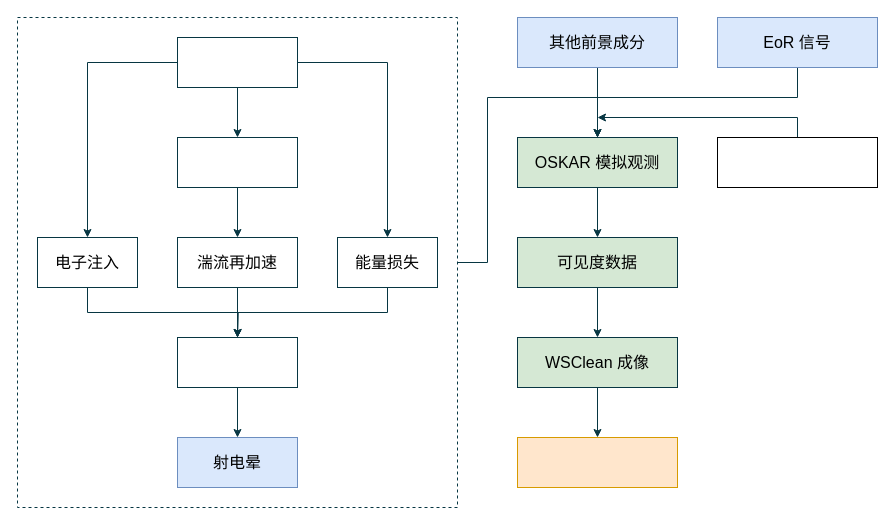
Image size: 895x525. Some labels were removed from this diagram. The centre of each missing label's shape, as x and y in pixels:
SKA1-Low 干涉阵列: point 797,162
SKA1-Low 观测图像: point 597,462
并合历史: point 237,162
星系团: point 237,62
电子能谱演化: point 237,362
